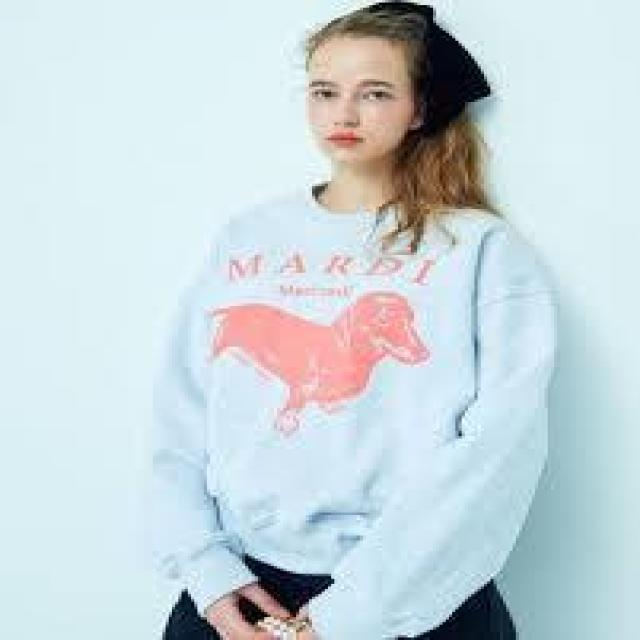sweater: (132, 191, 572, 597)
